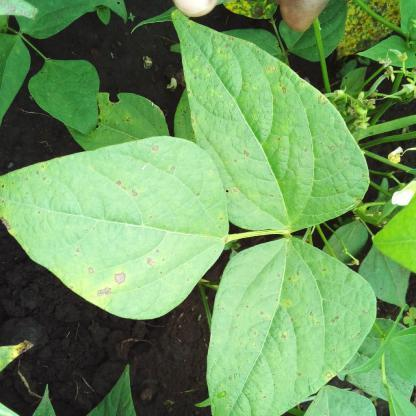Beans_Angular_LeafSpot: (162, 9, 370, 228), (1, 145, 232, 314), (208, 239, 376, 411)
